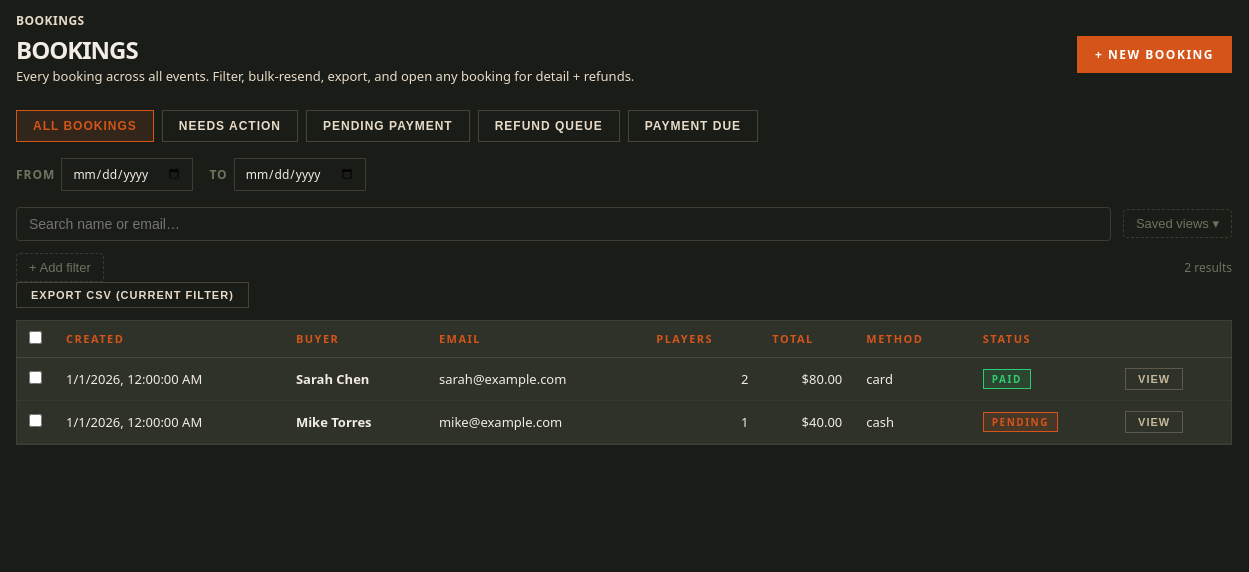
Test: AdminBookings › select-all reveals the bulk toolbar and posts a resend-confirmation
The width and height of the screenshot is (1249, 572).
Expected: the text "Sarah Chen" is shown, [296,370,369,388]
Click the checkbox named "Select all on page": (36, 337) [29,331,42,344]
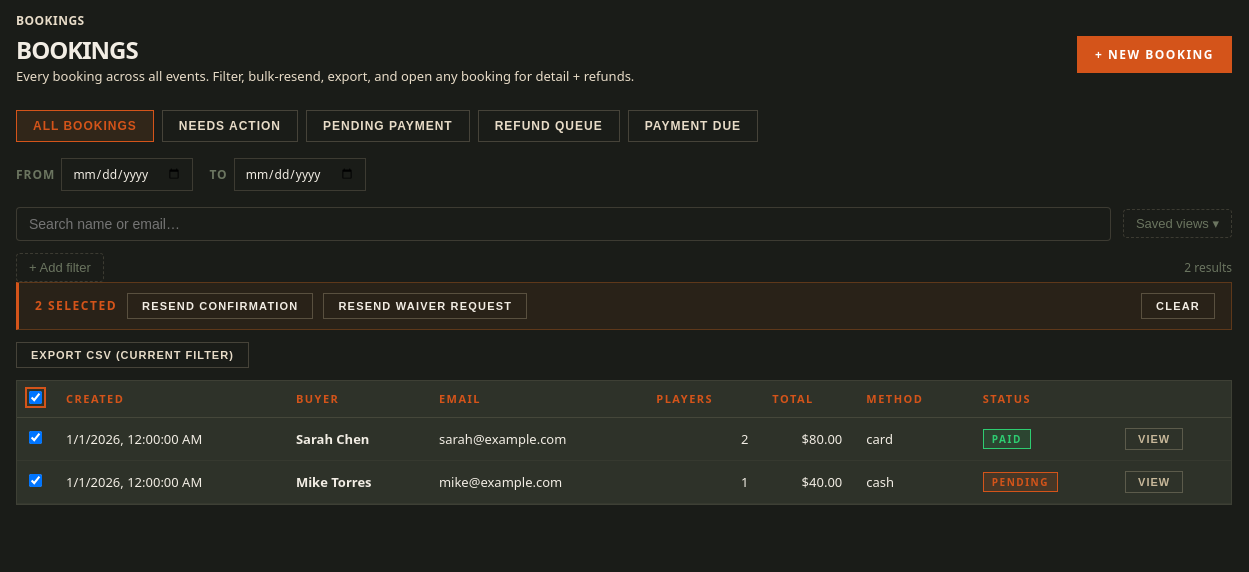
Click the button "Resend confirmation": (220, 306) [127,293,313,319]
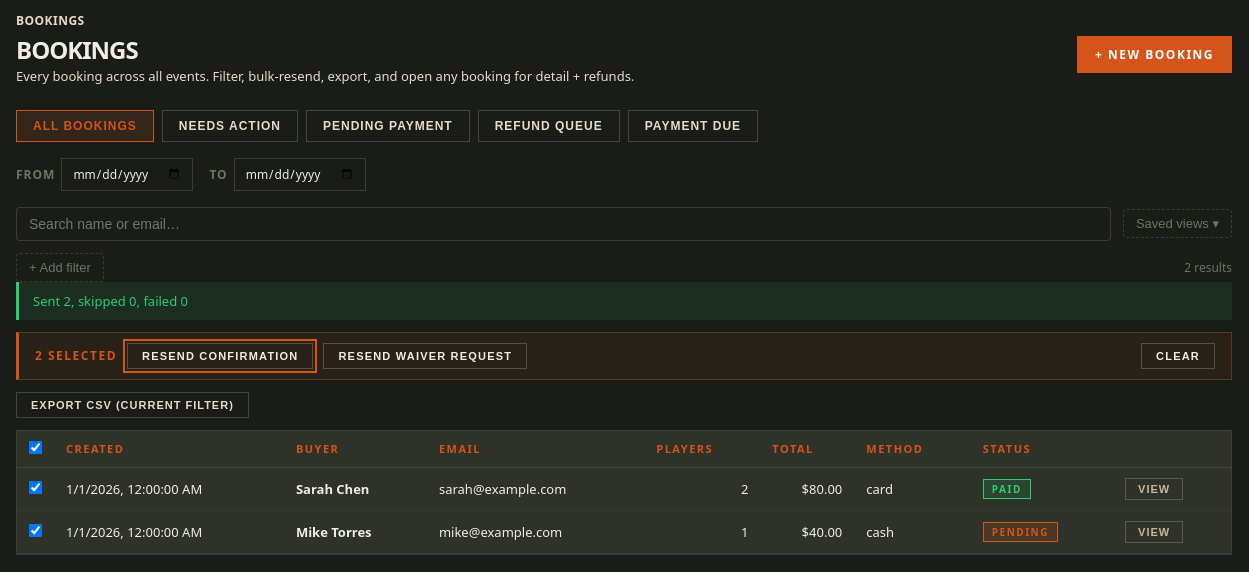
Expected: the text "Sent 2, skipped 0, failed 0" is shown, [16,282,1232,320]
